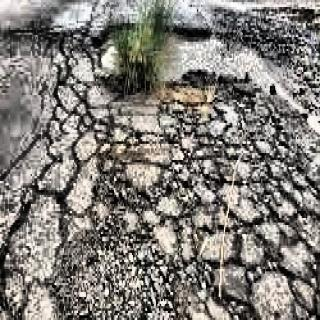alligator-crack: (46, 28, 320, 320)
pothole: (94, 13, 269, 91)
